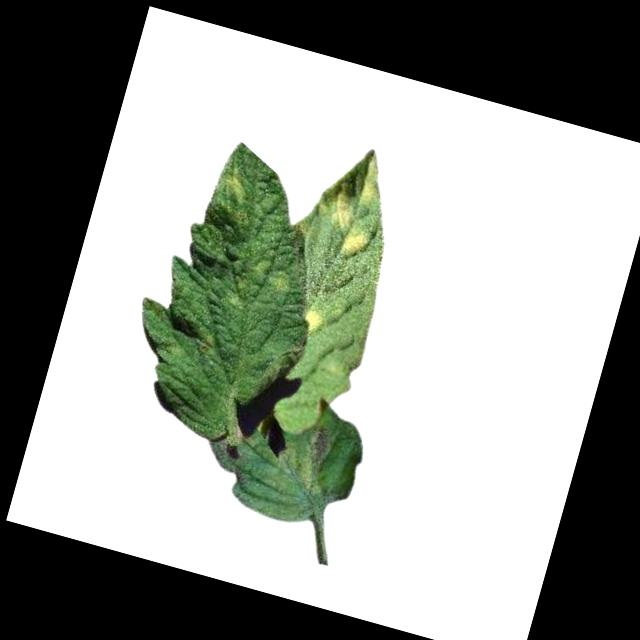Leaf_Mold: (318, 141, 395, 265), (277, 420, 338, 498), (215, 173, 248, 205), (296, 305, 324, 336), (264, 272, 289, 294)
